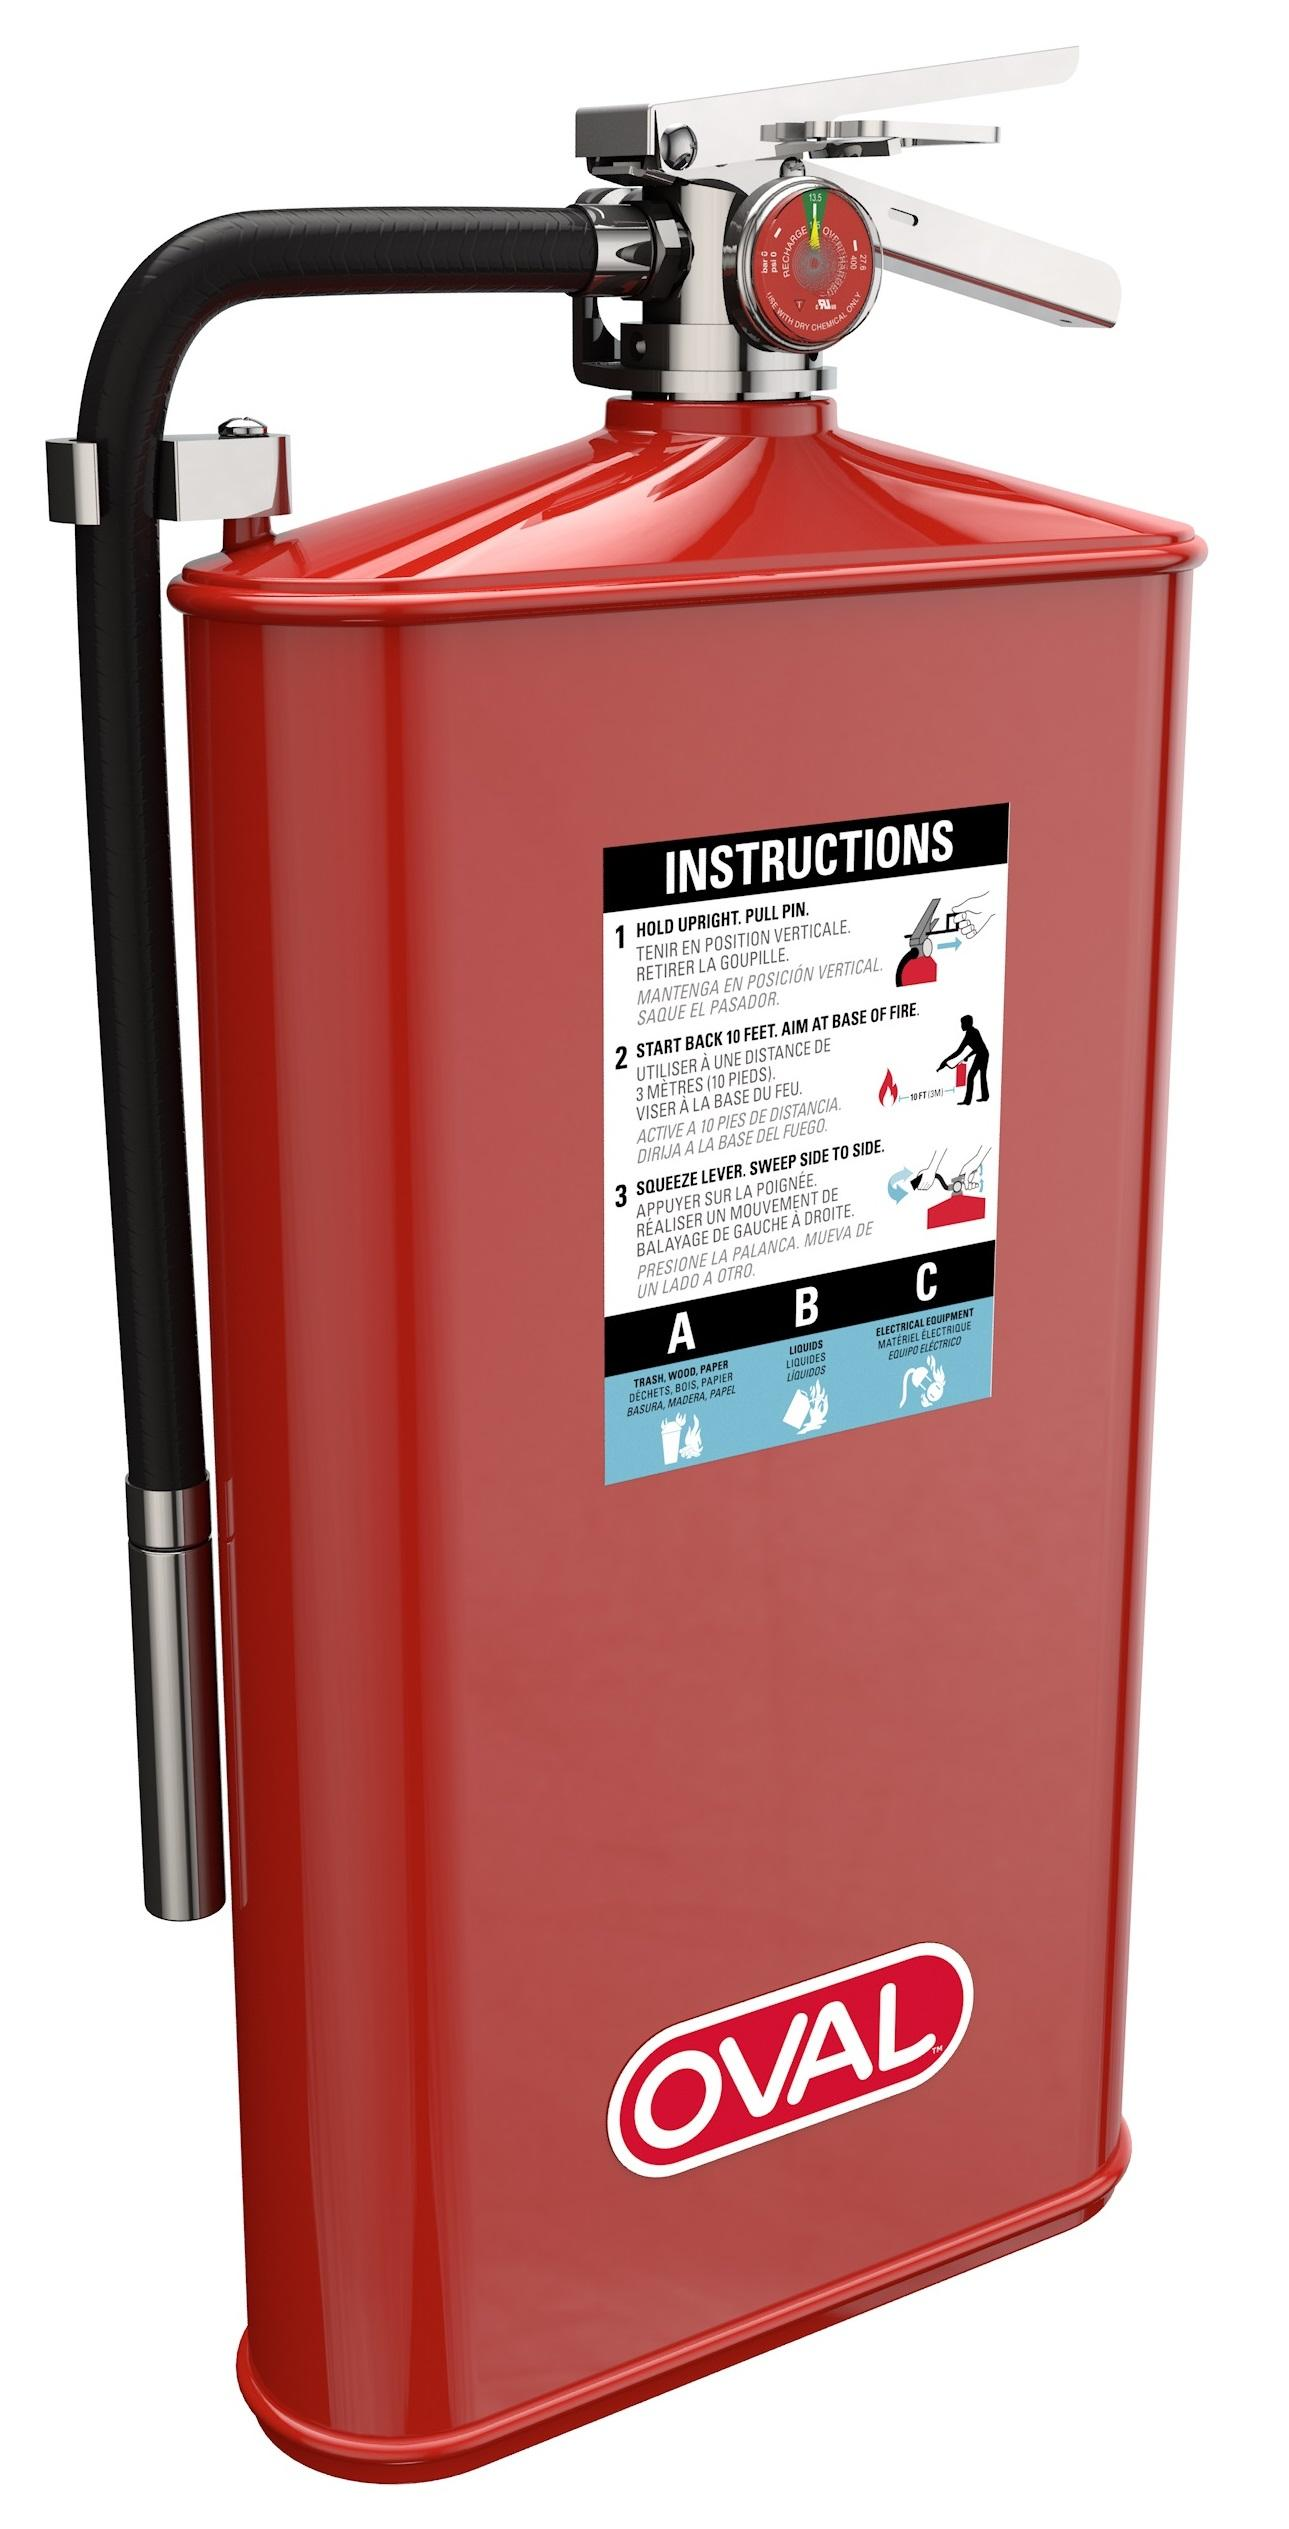Fire Extinguisher: (49, 49, 1279, 2440)
